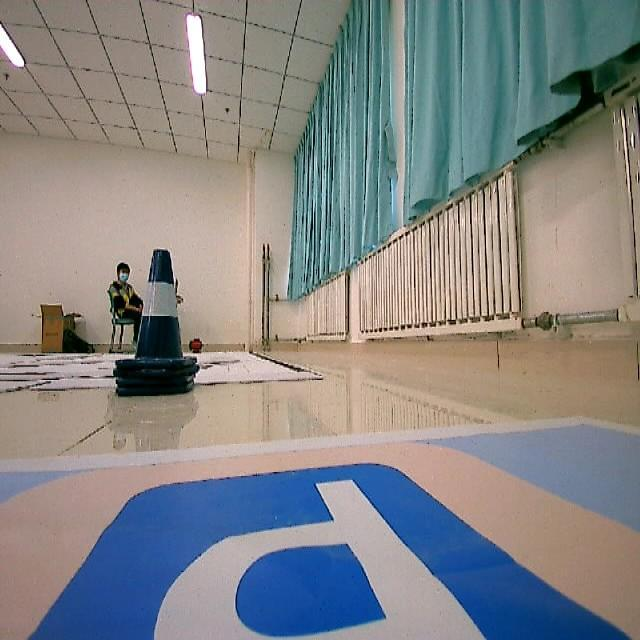obstacle: (108, 240, 210, 406)
